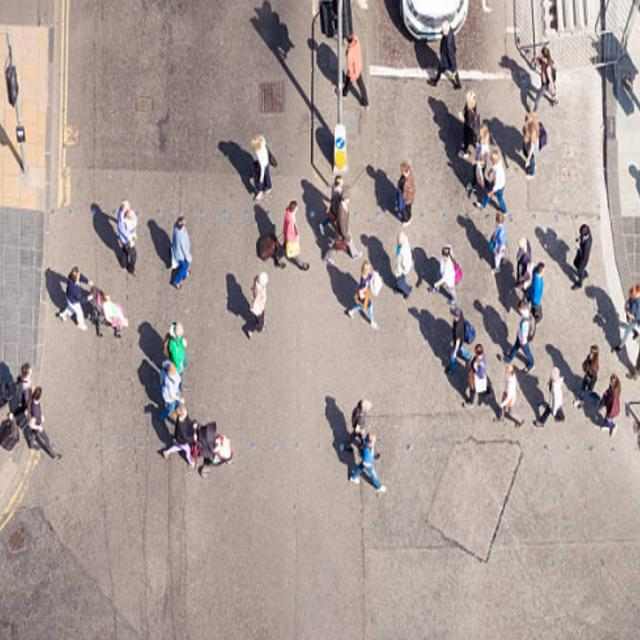humans: (50, 254, 92, 349), (27, 385, 70, 474), (496, 298, 537, 373), (343, 259, 384, 334), (427, 17, 465, 94), (160, 402, 199, 477), (14, 355, 41, 458), (335, 389, 375, 458), (474, 142, 509, 219), (115, 195, 145, 284), (533, 364, 570, 436), (348, 432, 388, 498), (167, 208, 196, 297), (247, 129, 279, 208), (162, 314, 192, 396), (492, 362, 526, 433), (282, 195, 312, 275), (611, 276, 639, 360), (530, 42, 560, 117), (345, 33, 372, 113), (245, 268, 271, 348), (334, 189, 363, 260), (390, 156, 418, 229), (462, 342, 490, 413), (160, 355, 185, 433), (465, 118, 490, 194), (392, 231, 418, 304), (427, 245, 457, 308), (572, 342, 599, 411), (316, 174, 344, 237), (444, 304, 466, 376), (459, 87, 479, 164), (571, 220, 591, 294), (521, 106, 540, 182), (488, 210, 509, 277), (601, 372, 622, 438), (512, 233, 530, 291), (531, 262, 545, 333)
